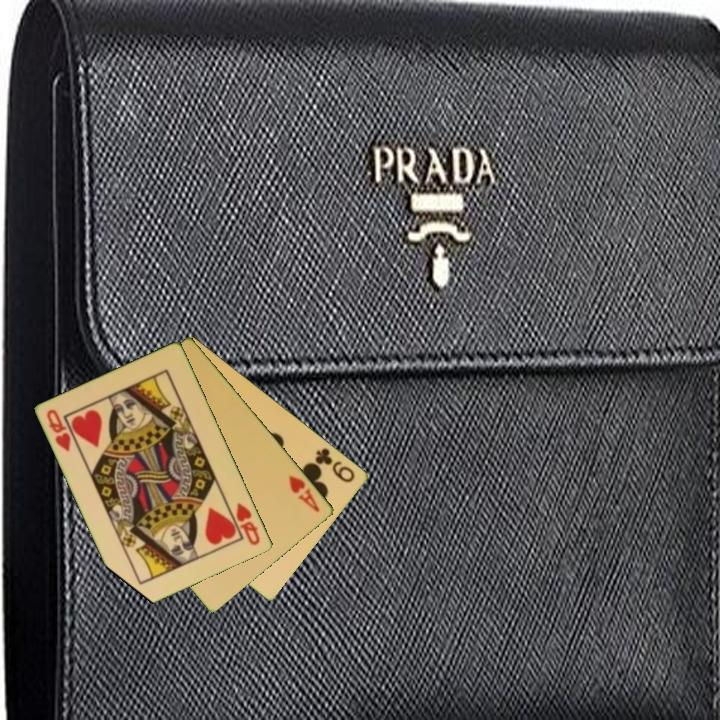9c: (311, 444, 358, 485)
Ah: (285, 472, 323, 515)
Qh: (233, 499, 264, 548), (43, 405, 74, 454)
